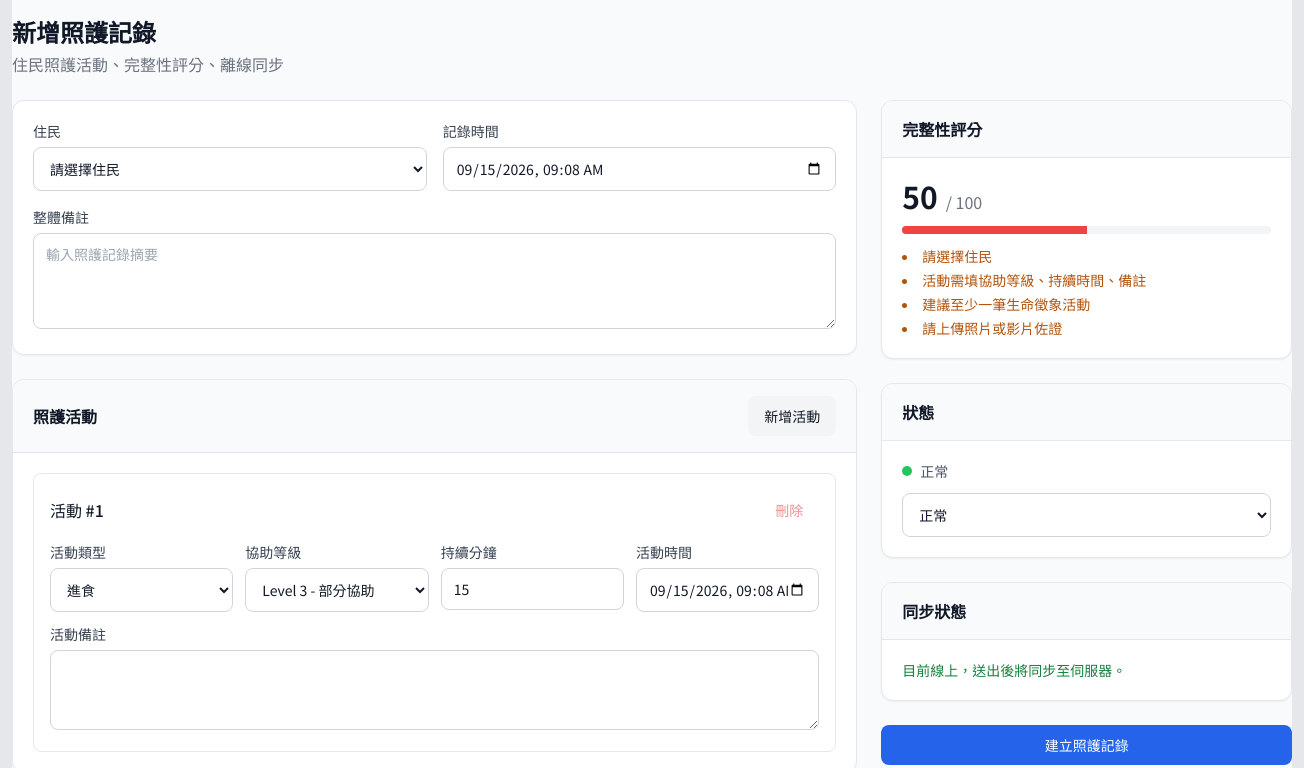
Test: CareRecordsPage › adds and removes activities
Check: the heading "新增照護記錄" is shown, box [12,14,156,49]
Click the button "新增活動" at (792, 416), box [748,396,836,436]
(page scrolled)
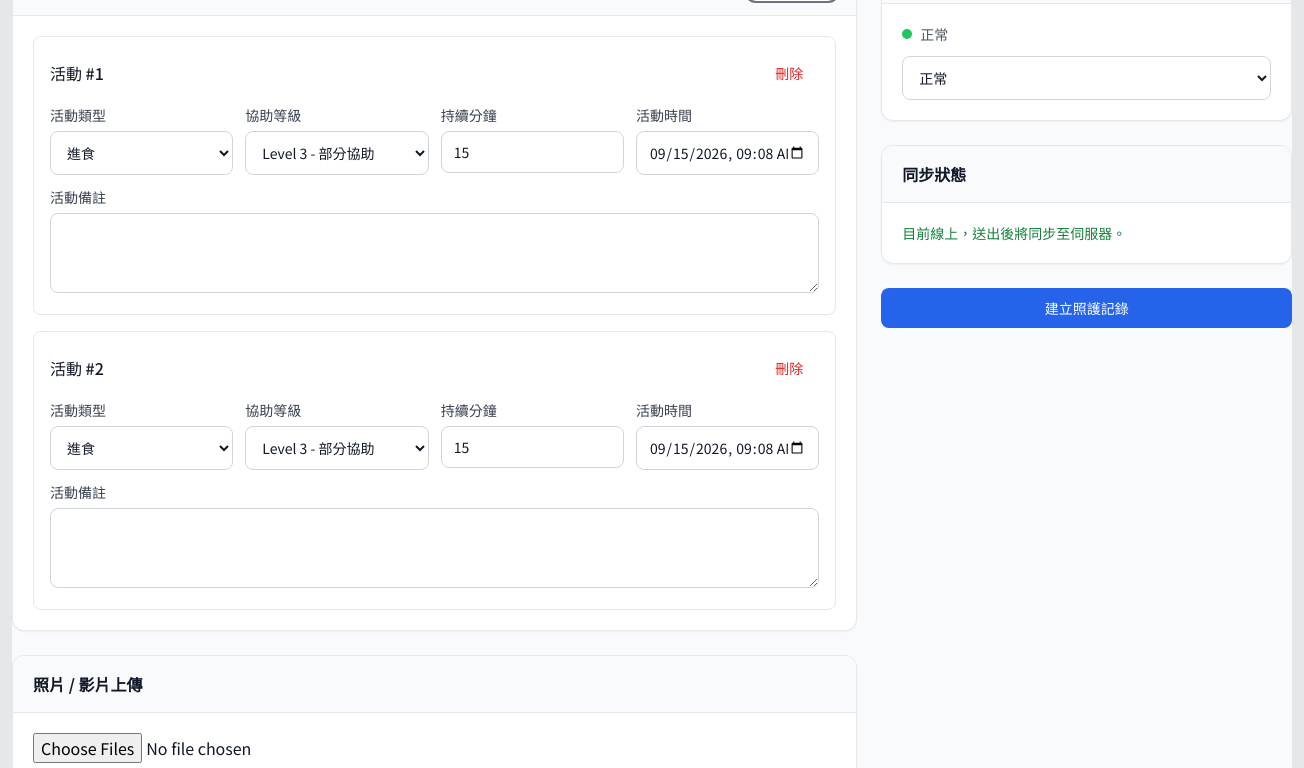
Check: the heading "活動 #2" is shown, box [50,356,104,380]
Click the 2nd button "刪除" at (789, 368), box [759,348,819,388]
(page scrolled)
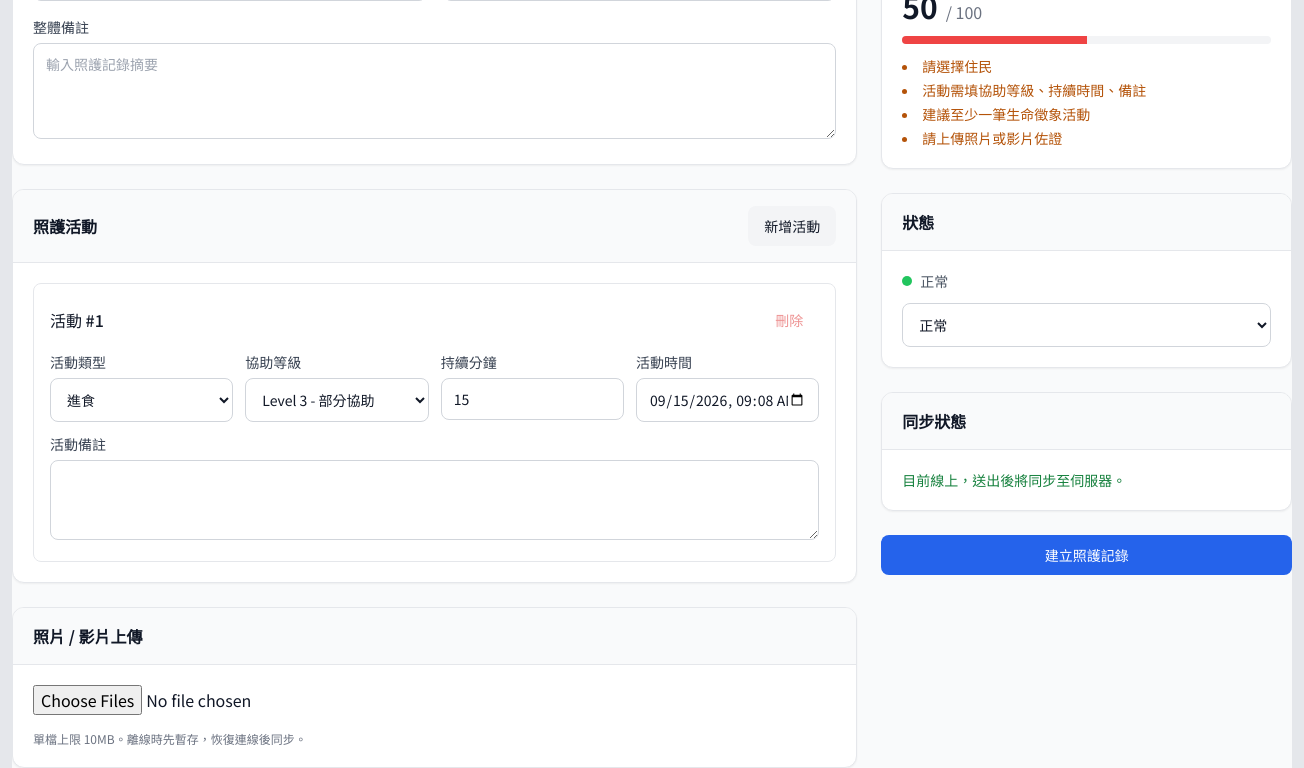
Check: the heading "活動 #2" is gone
